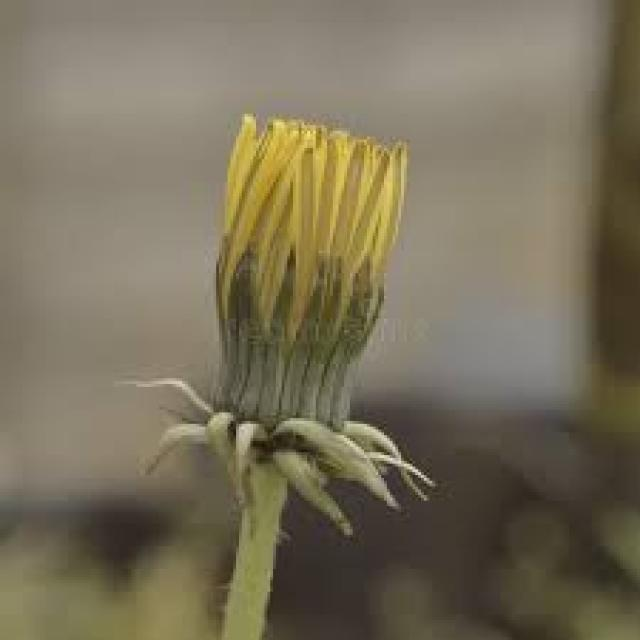Unbloomed: (117, 108, 438, 538)
